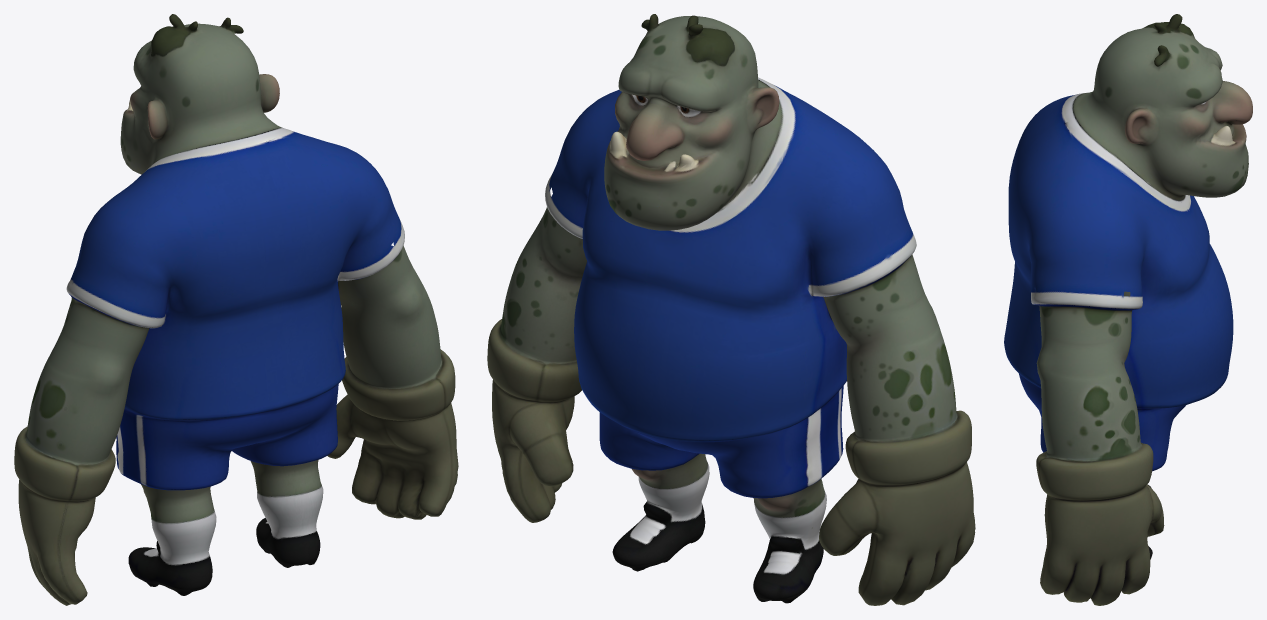
File: gigante.glb
3 renders of one model, left to right at view 1: azimuth 30°, elevation 25°; view 2: azimuth 150°, elevation 25°; view 3: azimuth 270°, elevation 25°, orthographic. The views are drawn at different scales.
Parts seen in each view (by area): view 1: char; view 2: char; view 3: char.
Part boxes in pixels (<box>): char: <box>14,14,458,605</box>; char: <box>487,14,975,605</box>; char: <box>1004,14,1252,605</box>.
Size of the model in its own units: 1.42 by 1.7 by 0.7467.
Materials: 1 (1 with a texture image).
